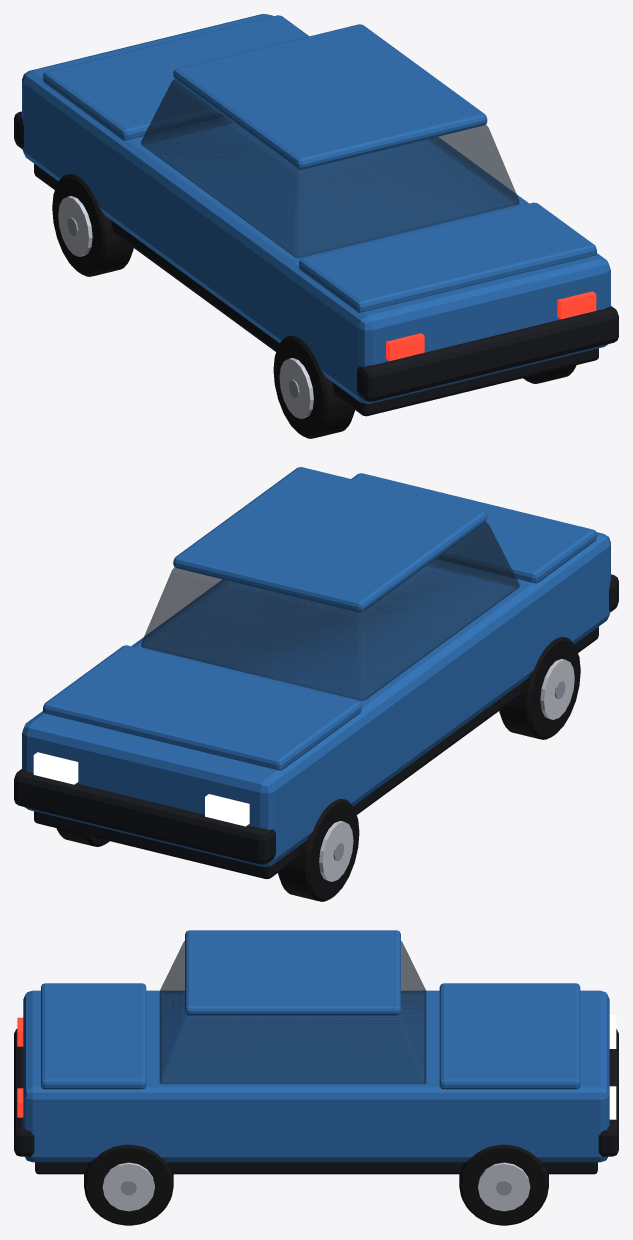
Rendered from veh_sedan.glb.
3 views of the same model, one above another, from view 1: azimuth 30°, elevation 25°; view 2: azimuth 150°, elevation 25°; view 3: azimuth 270°, elevation 25° (orthographic). The views are drawn at different scales.
Visible parts, largest first — view 1: Body, Glass, Roof, Boot, Hood, Bumper_R, Skirt, Wheel_FL, Wheel_RL, Wheel_FL_Rim, Wheel_RL_Rim, Taillight_R (+1 smaller); view 2: Body, Glass, Roof, Hood, Bumper_F, Boot, Skirt, Wheel_RL, Wheel_FL, Wheel_RL_Rim, Wheel_FL_Rim, Headlight_R (+1 smaller); view 3: Body, Glass, Roof, Hood, Boot, Skirt, Wheel_FR, Wheel_RR, Wheel_FR_Rim, Wheel_RR_Rim, Bumper_R, Bumper_F.
Part boxes in pixels (bbox=[...]): Body: bbox=[22, 14, 610, 403]; Glass: bbox=[141, 79, 519, 258]; Roof: bbox=[173, 24, 487, 169]; Boot: bbox=[299, 202, 596, 312]; Hood: bbox=[43, 15, 308, 140]; Bumper_R: bbox=[357, 306, 618, 401]; Skirt: bbox=[34, 164, 598, 416]; Wheel_FL: bbox=[52, 174, 133, 276]; Wheel_RL: bbox=[273, 336, 354, 438]; Wheel_FL_Rim: bbox=[58, 196, 92, 256]; Wheel_RL_Rim: bbox=[279, 358, 313, 418]; Taillight_R: bbox=[557, 291, 596, 319]; Body: bbox=[22, 532, 610, 866]; Glass: bbox=[141, 522, 519, 700]; Roof: bbox=[173, 467, 487, 612]; Hood: bbox=[43, 645, 361, 770]; Bumper_F: bbox=[14, 769, 275, 864]; Boot: bbox=[351, 473, 596, 583]; Skirt: bbox=[34, 627, 598, 878]; Wheel_RL: bbox=[499, 637, 580, 739]; Wheel_FL: bbox=[278, 799, 359, 901]; Wheel_RL_Rim: bbox=[540, 659, 574, 719]; Wheel_FL_Rim: bbox=[319, 821, 353, 881]; Headlight_R: bbox=[33, 752, 78, 784]; Body: bbox=[23, 990, 609, 1162]; Glass: bbox=[159, 941, 426, 1083]; Roof: bbox=[185, 930, 400, 1015]; Hood: bbox=[439, 983, 580, 1089]; Boot: bbox=[41, 983, 146, 1089]; Skirt: bbox=[35, 1162, 597, 1174]; Wheel_FR: bbox=[459, 1144, 548, 1225]; Wheel_RR: bbox=[84, 1144, 173, 1225]; Wheel_FR_Rim: bbox=[478, 1162, 530, 1211]; Wheel_RR_Rim: bbox=[102, 1162, 154, 1211]; Bumper_R: bbox=[14, 1029, 34, 1156]; Bumper_F: bbox=[598, 1029, 618, 1156].
Bounding box in the file's own units: 1.97 × 1.71 × 4.56.
